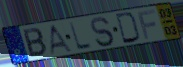A: (48, 23, 74, 56)
B: (21, 27, 48, 59)
D: (114, 12, 142, 45)
F: (137, 8, 158, 41)
L: (68, 21, 94, 52)
S: (89, 16, 116, 48)
